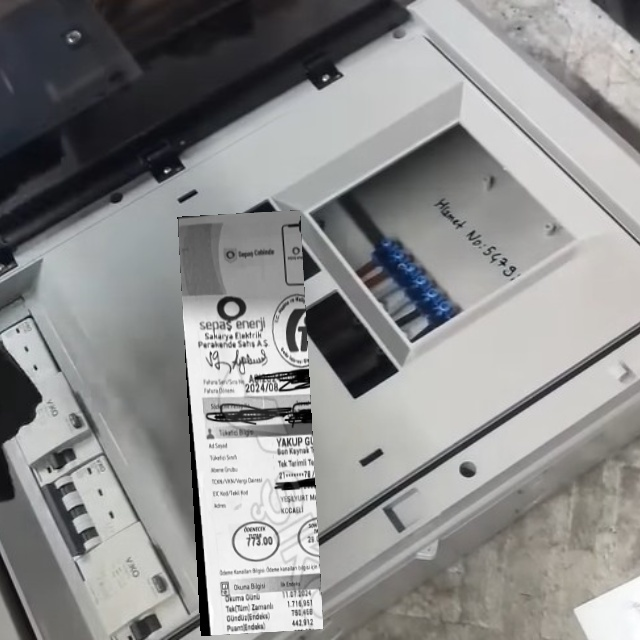electricity-bill: (177, 209, 323, 635)
